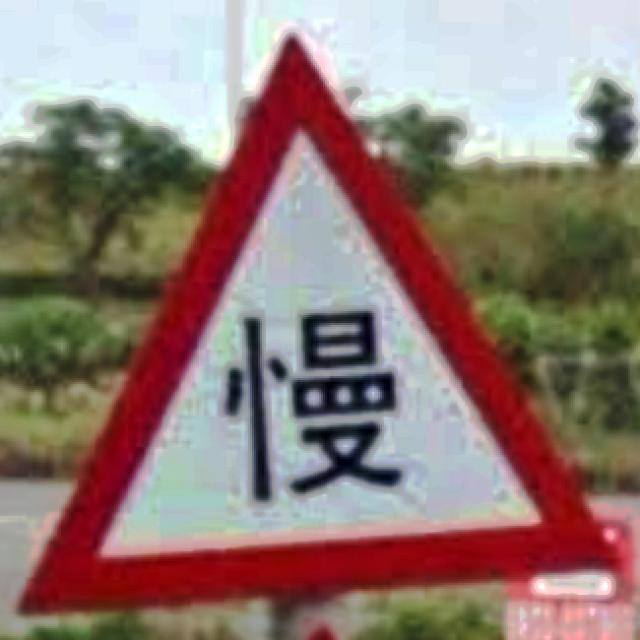slow: (24, 32, 632, 616)
